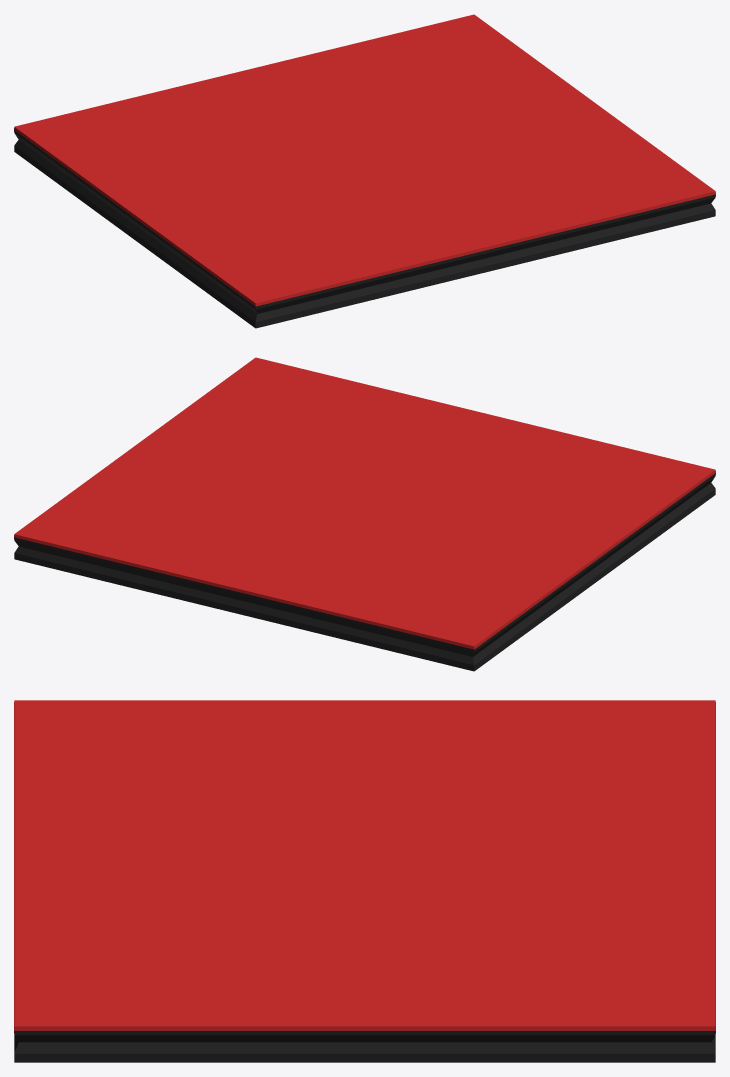
Rendered from frame.dae.
3 renders of one model, top to bottom at view 1: azimuth 30°, elevation 25°; view 2: azimuth 150°, elevation 25°; view 3: azimuth 270°, elevation 25°, orthographic. The views are drawn at different scales.
Parts seen in each view (by area): view 1: visual_frame; view 2: visual_frame; view 3: visual_frame.
Part boxes in pixels (x1,y1,x2,y2): visual_frame: (14,14,715,328); visual_frame: (14,357,715,671); visual_frame: (14,700,715,1062).
Size of the model in its own units: 0.4403 by 0.4003 by 0.023.
